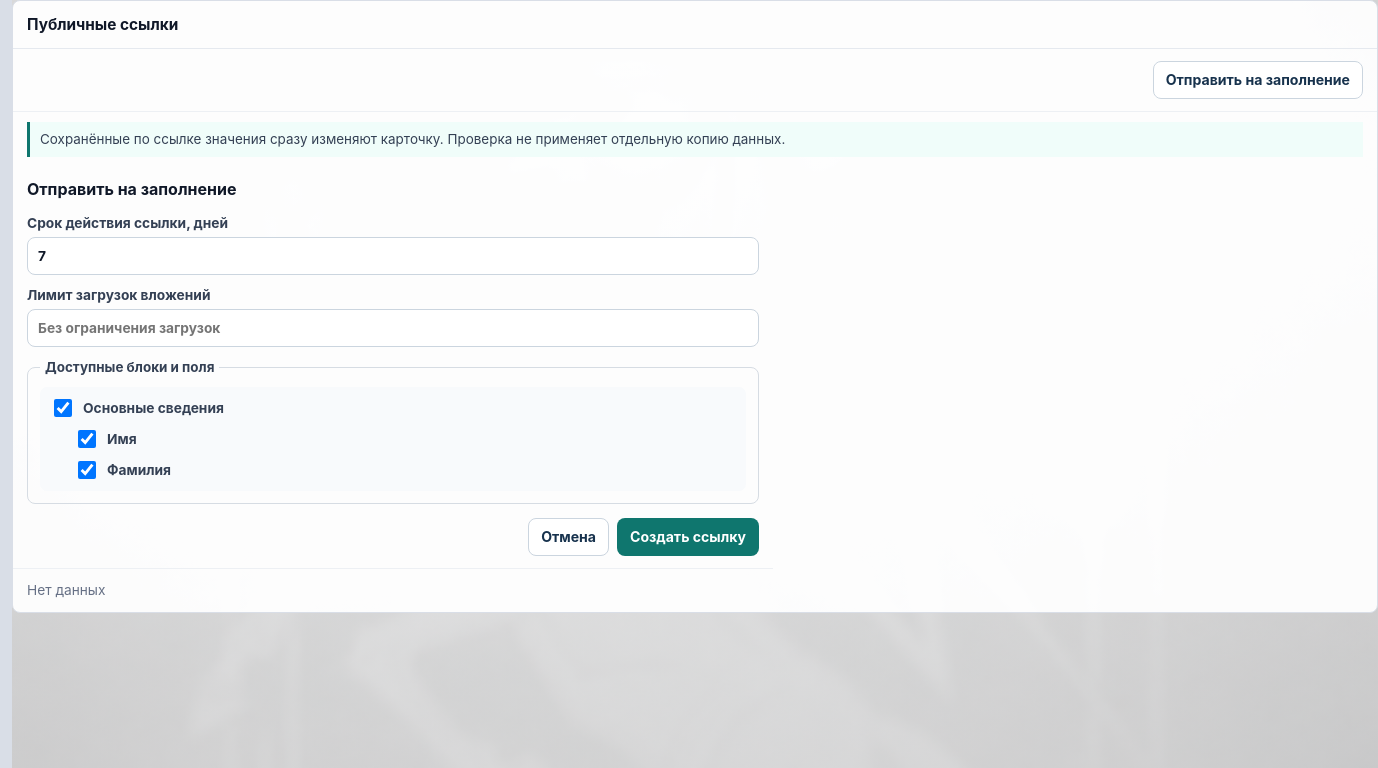
Test case: PublicLinkReviewPanel › creates a review link from public-editable schema and keeps raw URL ephemeral
Expected: the form "Отправить на заполнение" is shown, [27,180,759,556]
Expected: the checkbox named "Блок Основные сведения" is checked, [54,399,72,417]
Click the checkbox named "Поле Фамилия". click: (87, 470)
box: [78,461,96,479]
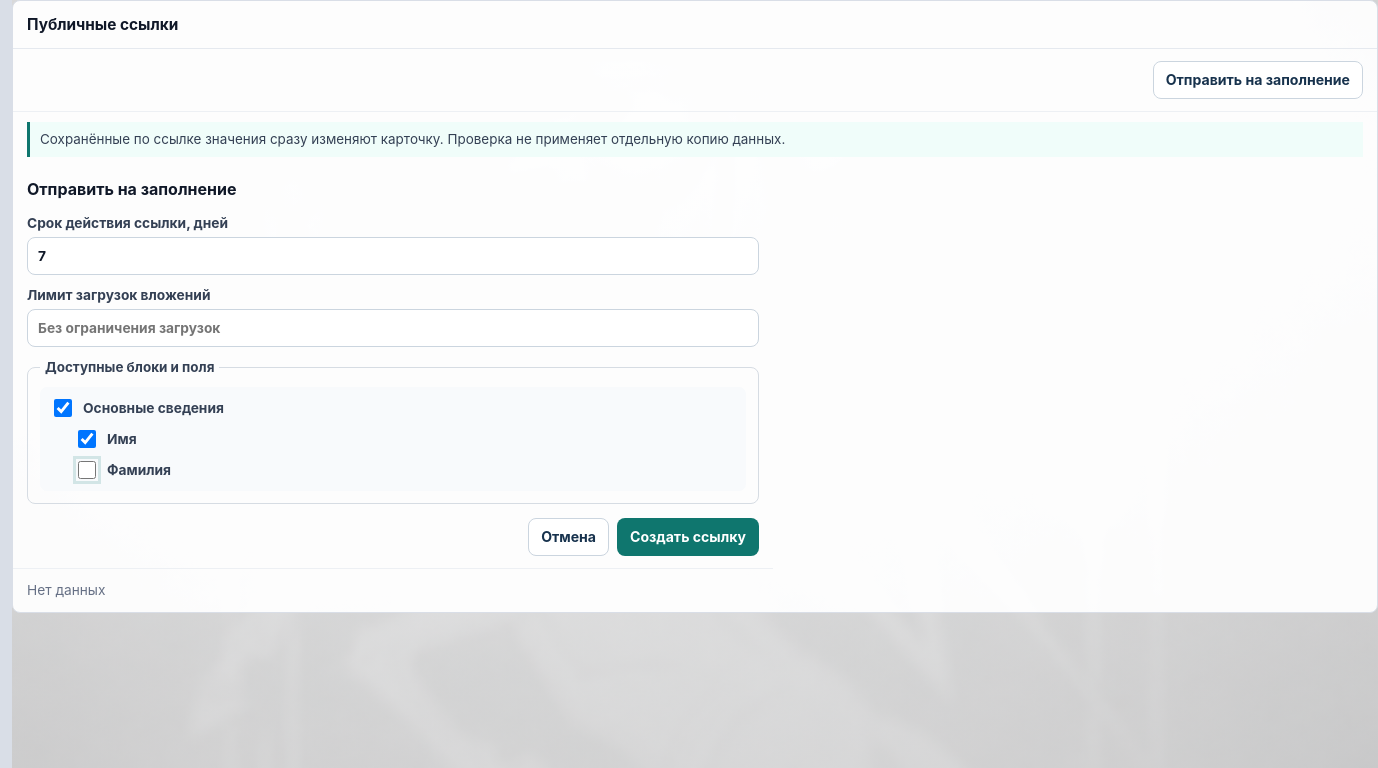
Replace the text in the number field labelled "Срок действия ссылки, дней" with "5". click: (393, 256)
box: [27,237,759,275]
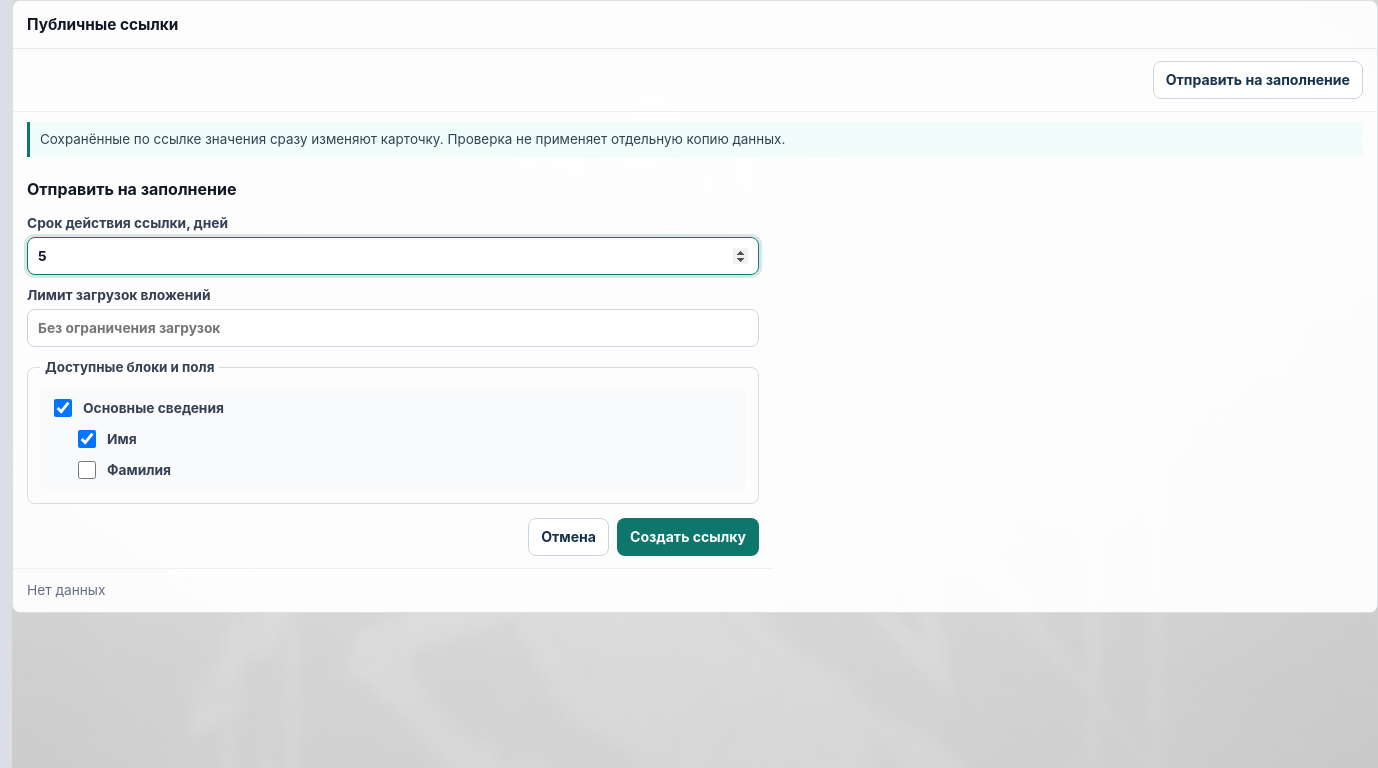
Type "2" into the number field labelled "Лимит загрузок вложений". click: (393, 328)
box: [27,309,759,347]
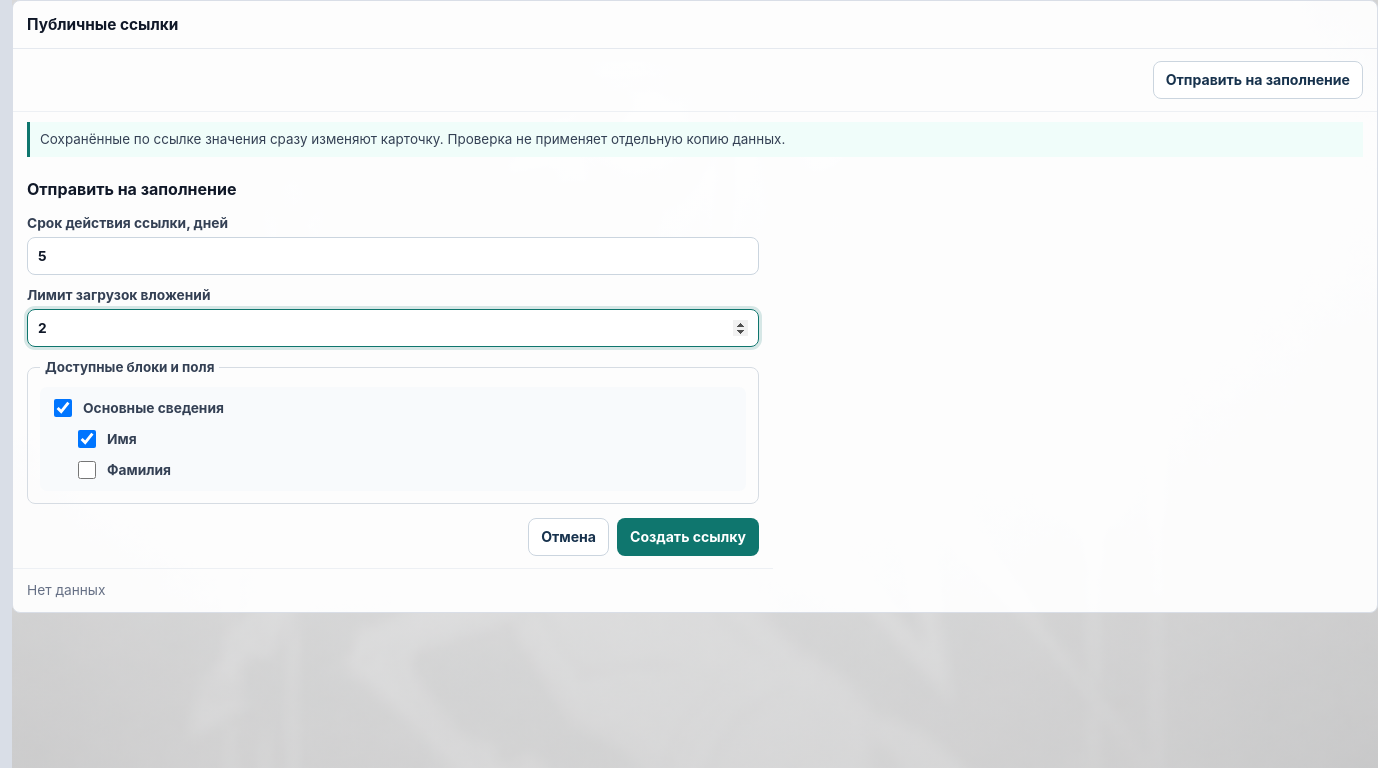
Click the button "Создать ссылку". click: (688, 537)
box: [617,518,759,556]
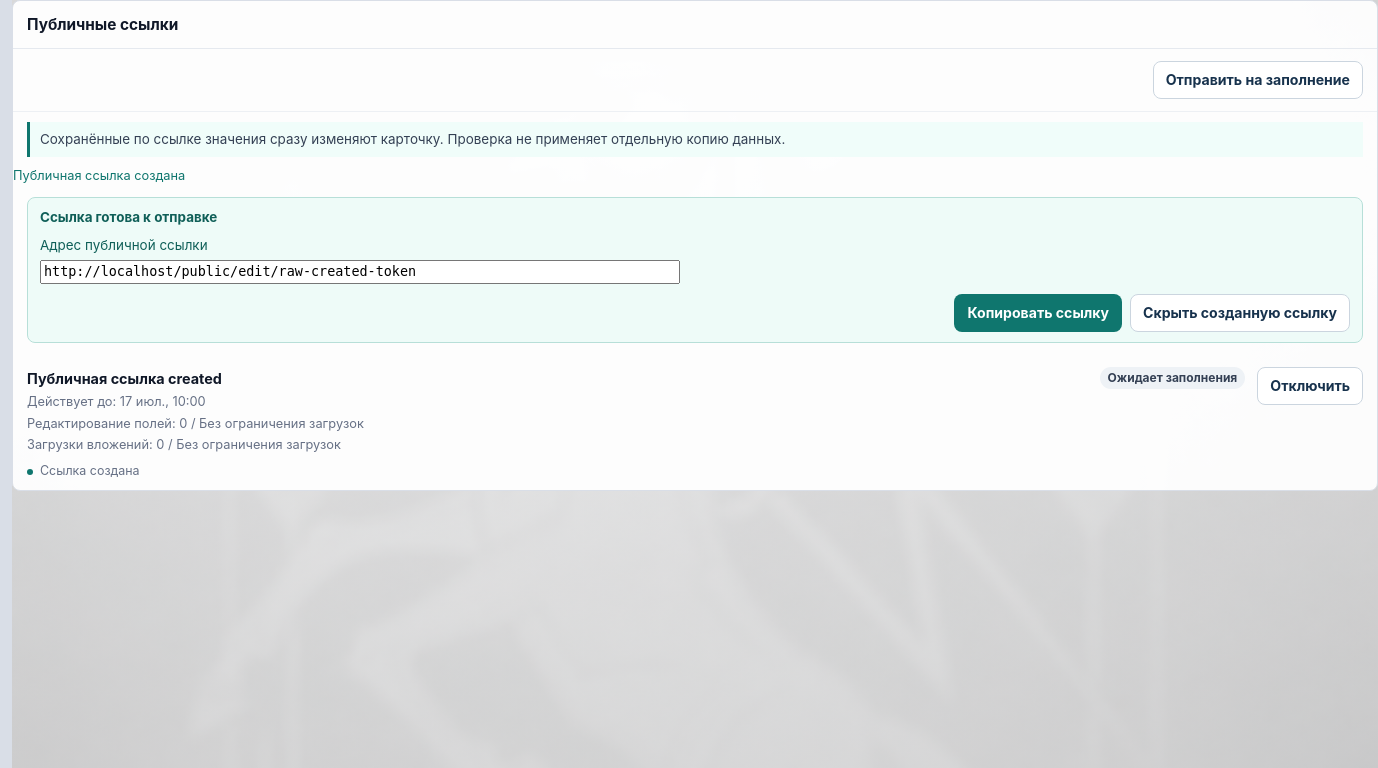
Click the button "Копировать ссылку". click: (1038, 313)
box: [954,294,1122,332]
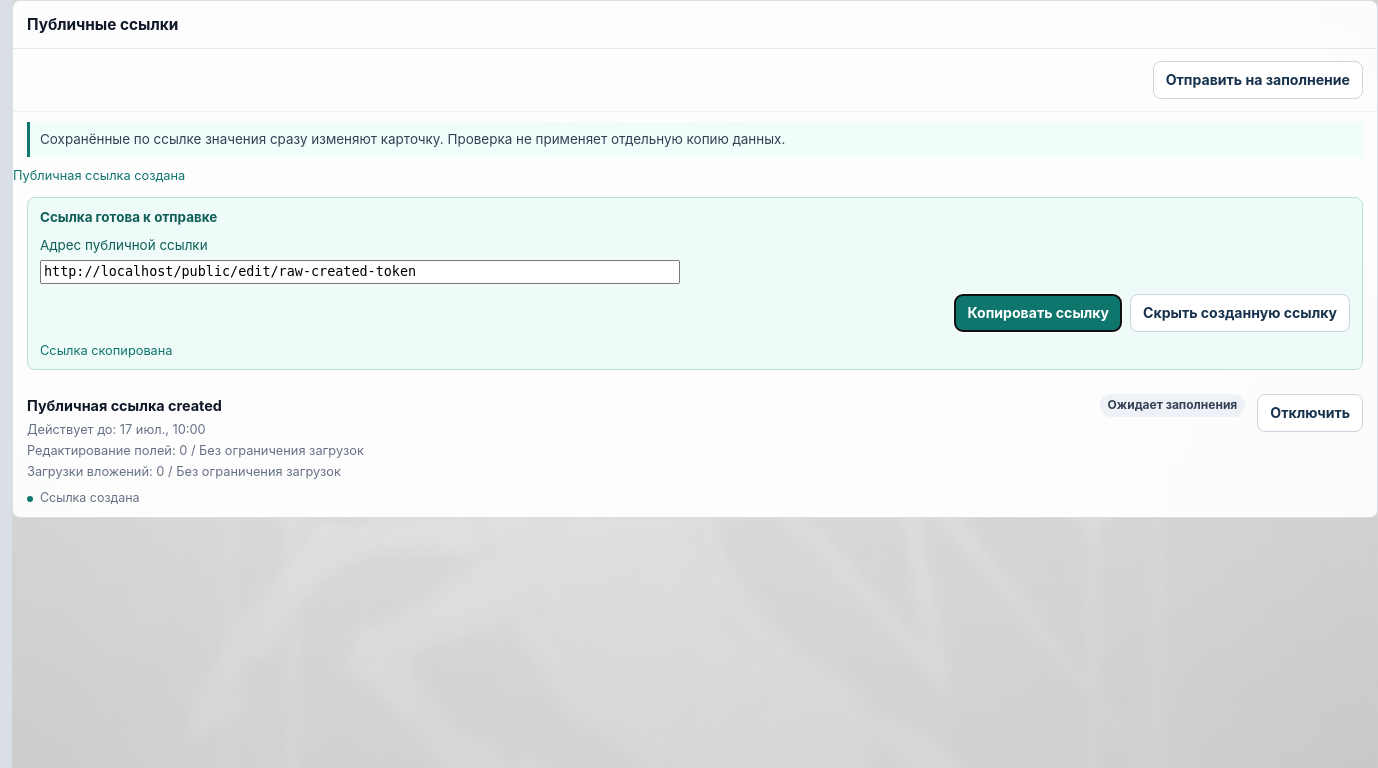
Click the button "Скрыть созданную ссылку". click: (1240, 313)
box: [1130,294,1350,332]
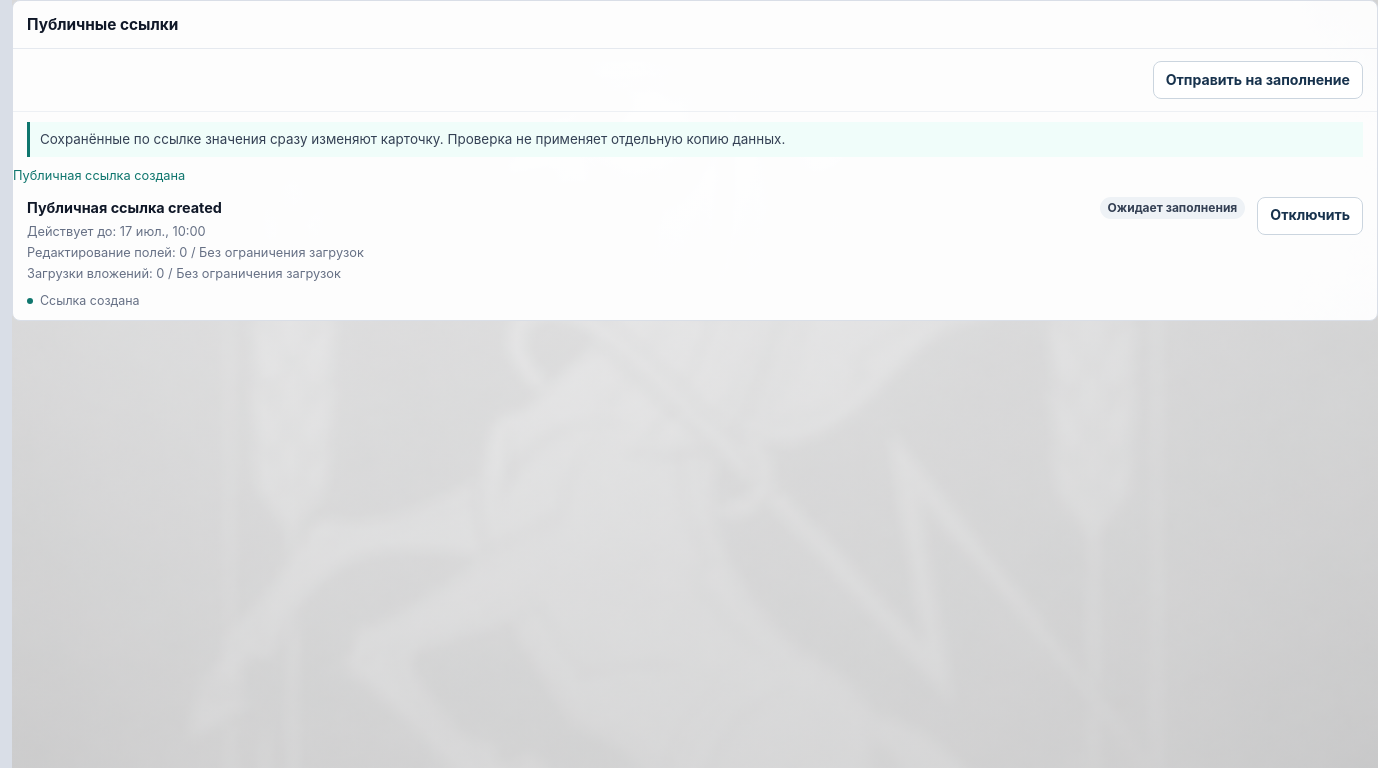
Expected: the text labelled "Адрес публичной ссылки" is gone
